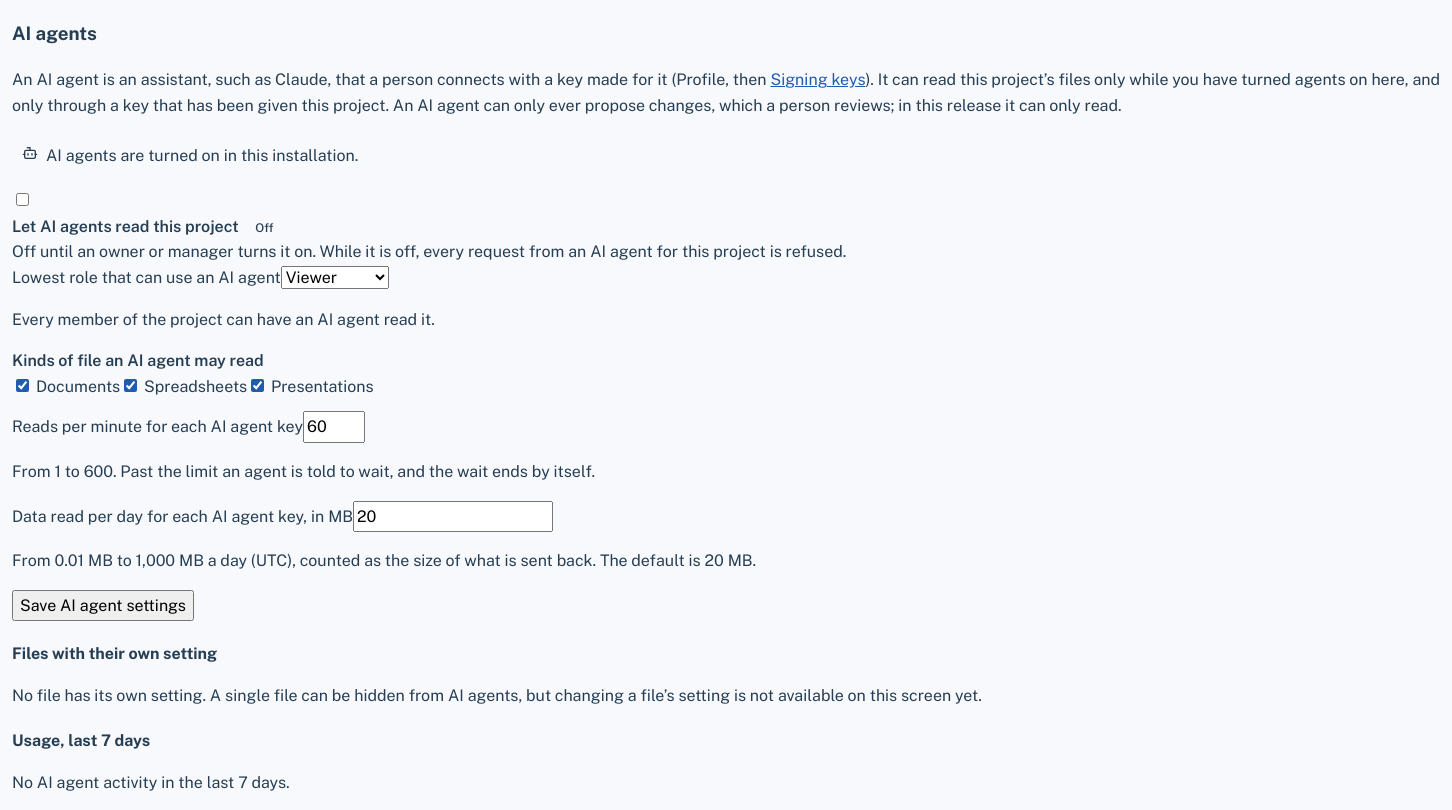
Test: ProjectAgentPolicy: saving › reloads and says so when someone else saved first
Click the switch at (22, 200), box [16,193,29,206]
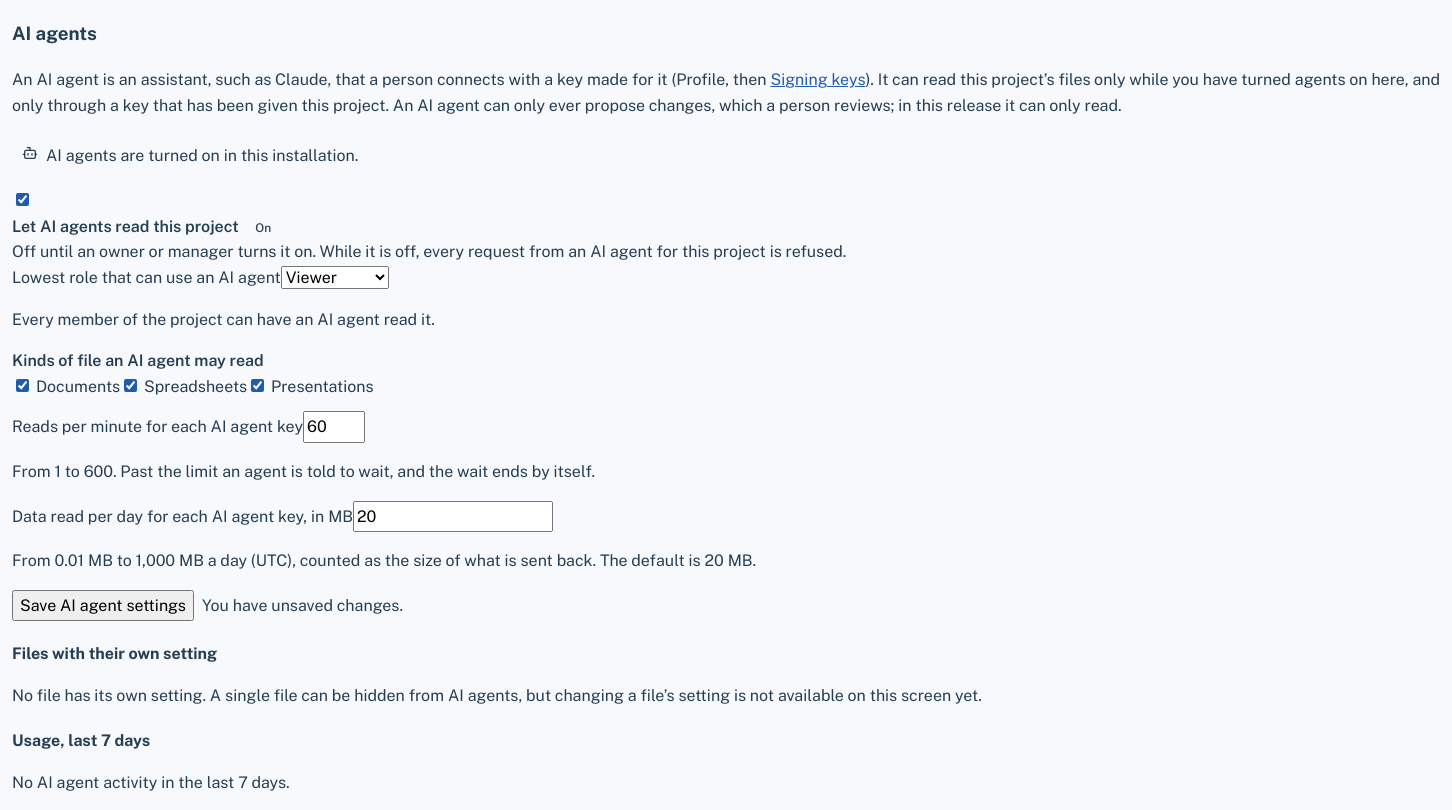
Click the button "Save AI agent settings" at (103, 606), box [12,590,194,621]
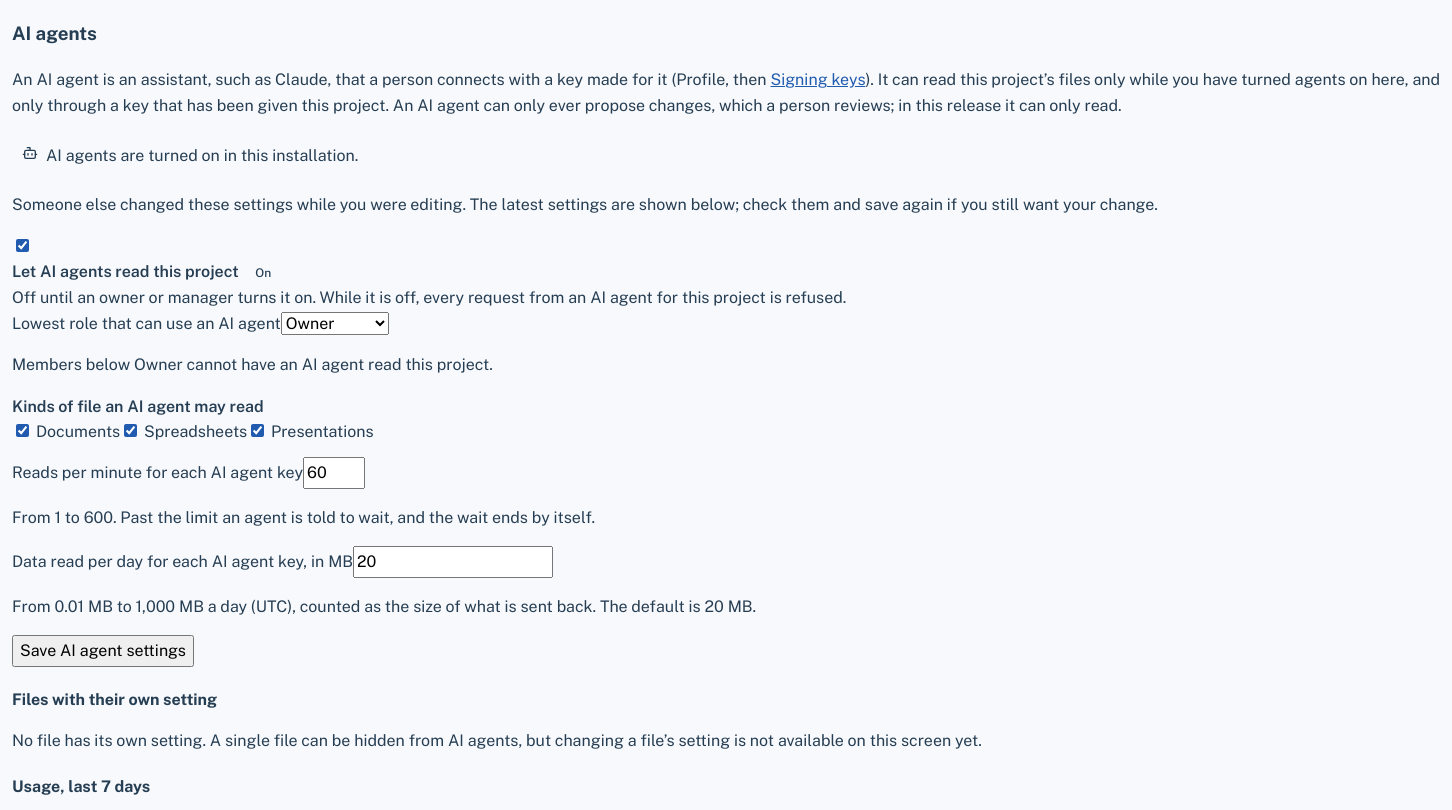
Expected: the switch is checked, [16,239,29,252]
Expected: the message shows "Someone else changed these settings", [12,195,1158,214]
Expected: the dropdown labelled "Lowest role that can use an AI agent" shows "Owner", [281,312,389,334]
